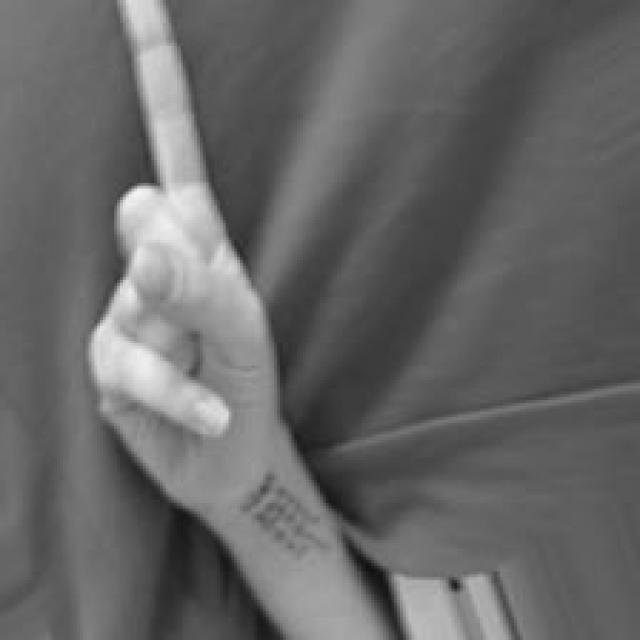I: (87, 2, 292, 520)
